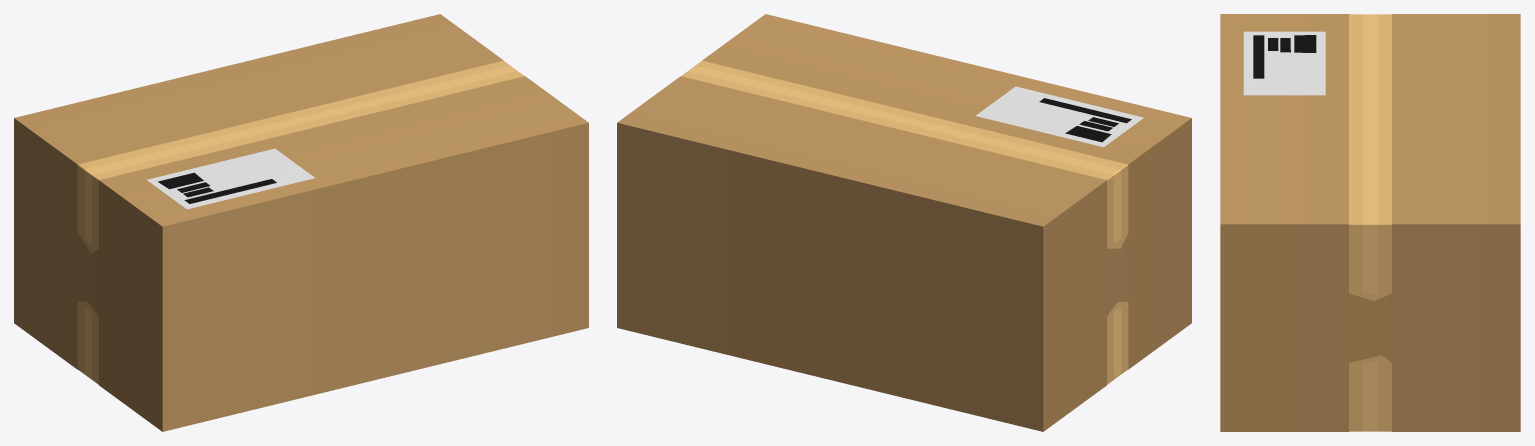
The model's file is Light Packing Box #5.fbx.
The picture shows the model from 3 angles, left to right: view 1: azimuth 30°, elevation 25°; view 2: azimuth 150°, elevation 25°; view 3: azimuth 270°, elevation 25°; orthographic projection.
Visible parts, largest first — view 1: Med Light Packing Box #1; view 2: Med Light Packing Box #1; view 3: Med Light Packing Box #1.
Part boxes in pixels (x1,y1,x2,y2): Med Light Packing Box #1: (14, 14, 588, 431); Med Light Packing Box #1: (617, 14, 1191, 431); Med Light Packing Box #1: (1220, 14, 1520, 431).
Bounding box in the file's own units: 164 × 215 × 357.
1 material, 1 textured.
